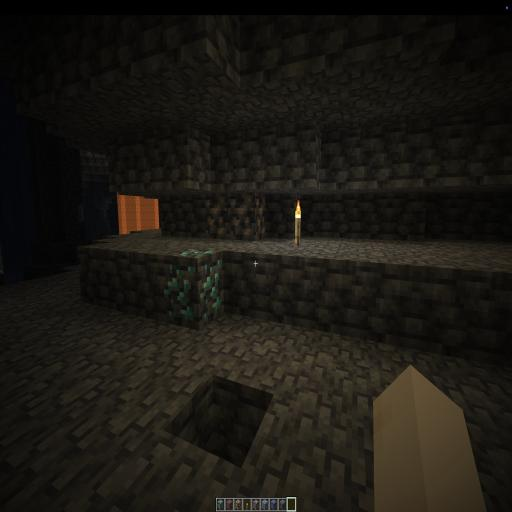diamond ore: (164, 242, 224, 330)
iron ore: (200, 195, 272, 242)
